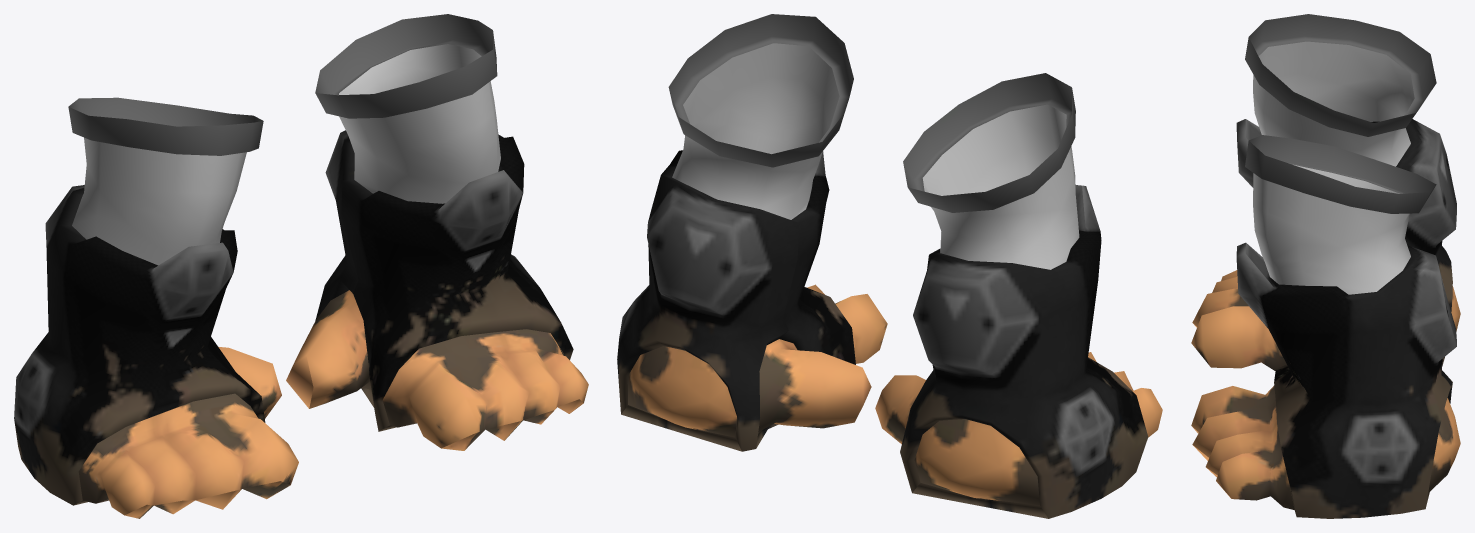
3 renders of one model, left to right at view 1: azimuth 30°, elevation 25°; view 2: azimuth 150°, elevation 25°; view 3: azimuth 270°, elevation 25°, orthographic. The views are drawn at different scales.
Visible parts, largest first — view 1: model_0_submesh_0, model_0_submesh_1, model_0_submesh_2; view 2: model_0_submesh_0, model_0_submesh_1, model_0_submesh_2; view 3: model_0_submesh_0, model_0_submesh_1, model_0_submesh_2.
Boxes of the visible parts, x1,y1,x2,y2 form: model_0_submesh_0: (14,130,588,518); model_0_submesh_1: (72,44,500,265); model_0_submesh_2: (68,14,497,155); model_0_submesh_0: (617,150,1162,518); model_0_submesh_1: (672,43,1079,269); model_0_submesh_2: (668,14,1075,212); model_0_submesh_0: (1191,119,1460,518); model_0_submesh_1: (1253,41,1414,294); model_0_submesh_2: (1245,14,1436,213).
Bounding box in the file's own units: 0.8697 × 0.6088 × 0.4573.
